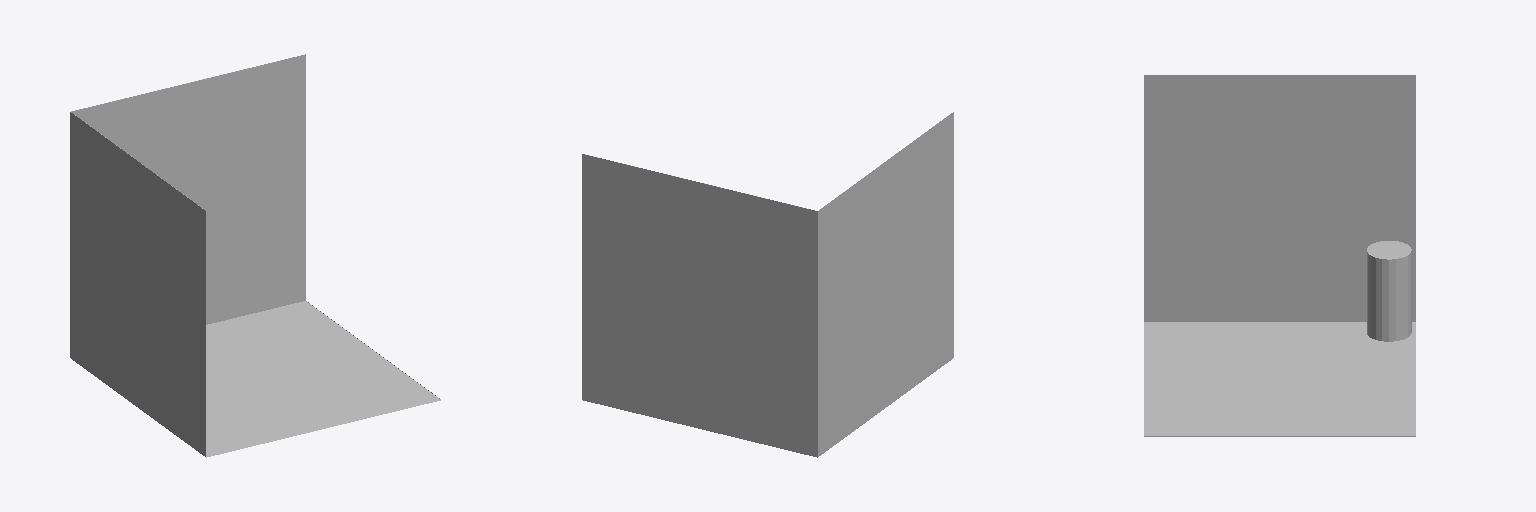
File: open-box-faked.obj
3 views of the same model, side by side, from view 1: azimuth 30°, elevation 25°; view 2: azimuth 150°, elevation 25°; view 3: azimuth 270°, elevation 25° (orthographic).
Visible parts, largest first — view 1: box; view 2: box; view 3: box, pCylinder1.
Boxes of the visible parts, x1=… form: box: x1=70, y1=54, x2=440, y2=457; box: x1=582, y1=112, x2=953, y2=457; box: x1=1144, y1=75, x2=1415, y2=436; pCylinder1: x1=1367, y1=241, x2=1411, y2=341.
Size of the model in its own units: 6 by 6 by 6.